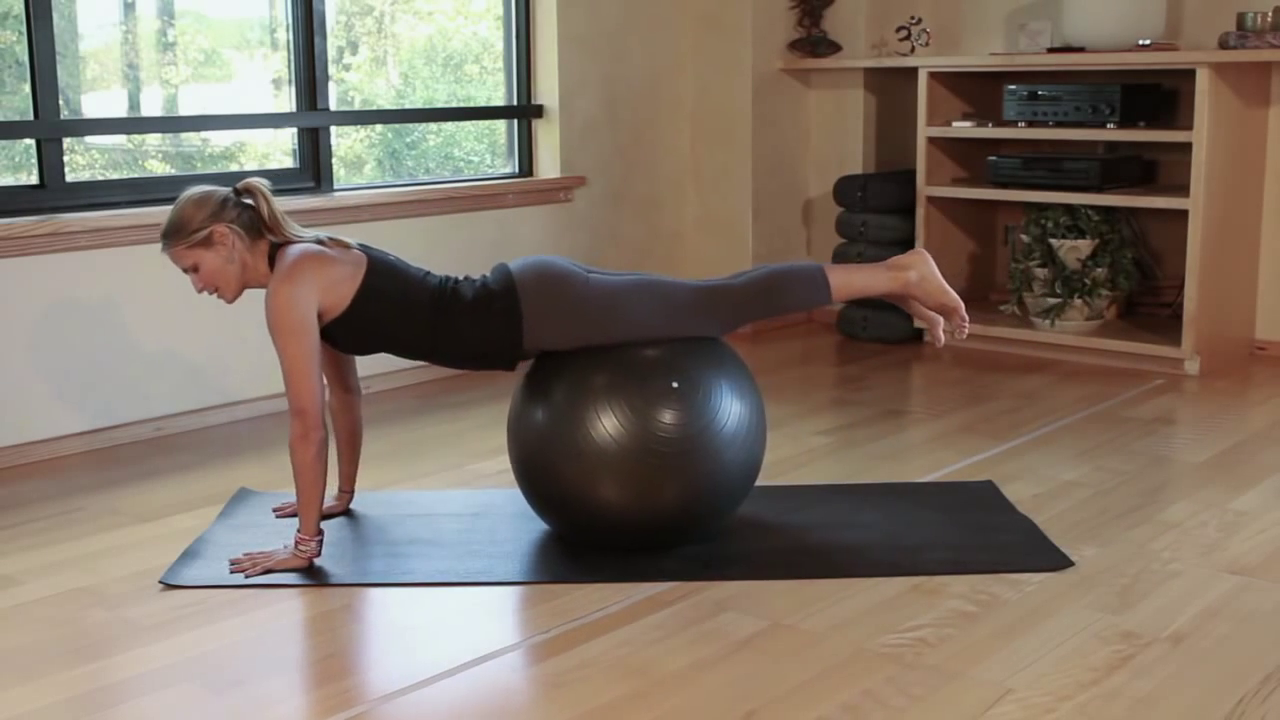yogaball: (494, 338, 780, 557)
